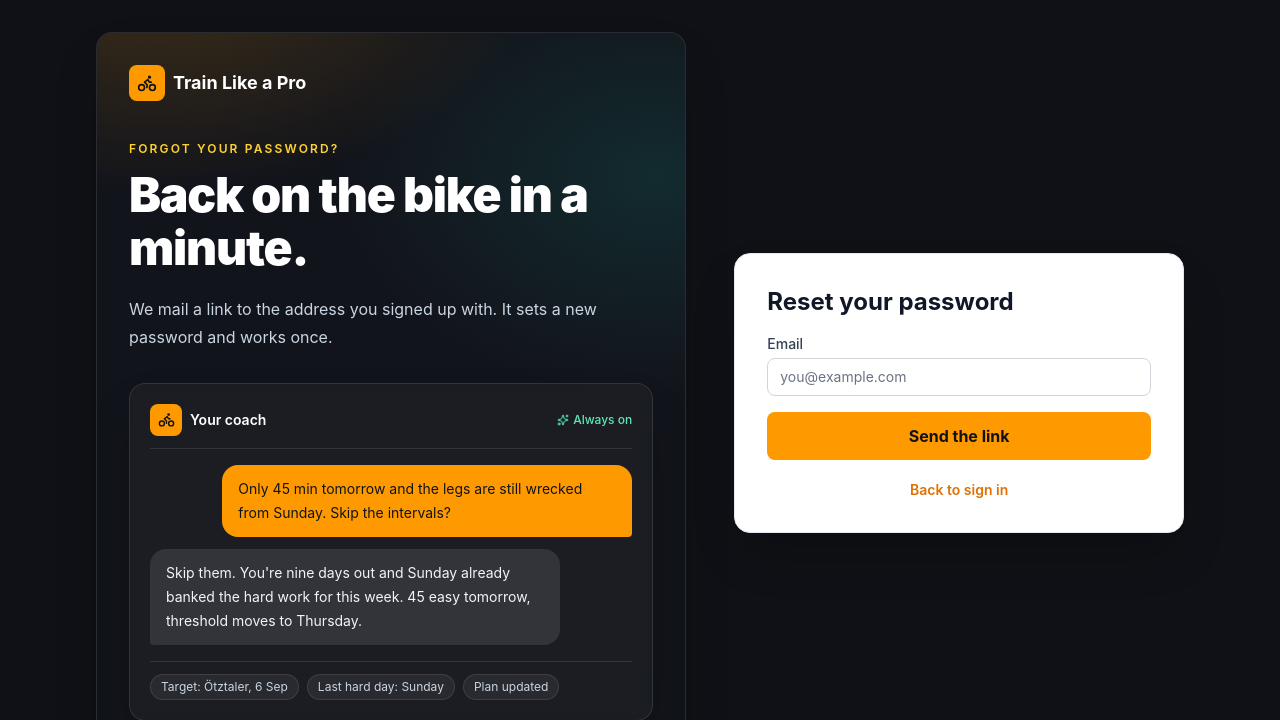
Test: ForgotPasswordPage › says whom to ask when this server sends no mail
Type "rider@example.com" into the field labelled "Email" at (959, 377), box [767,358,1151,396]
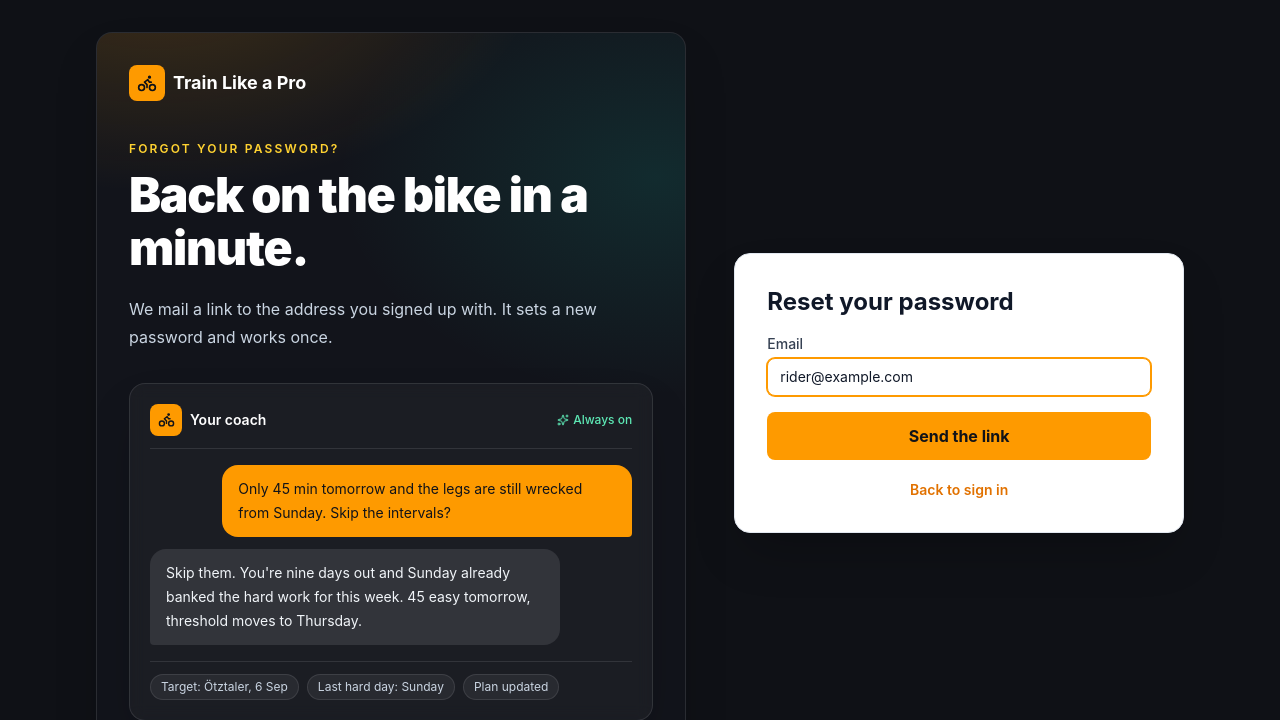
Click the button "Send the link" at (959, 436), box [767,412,1151,460]
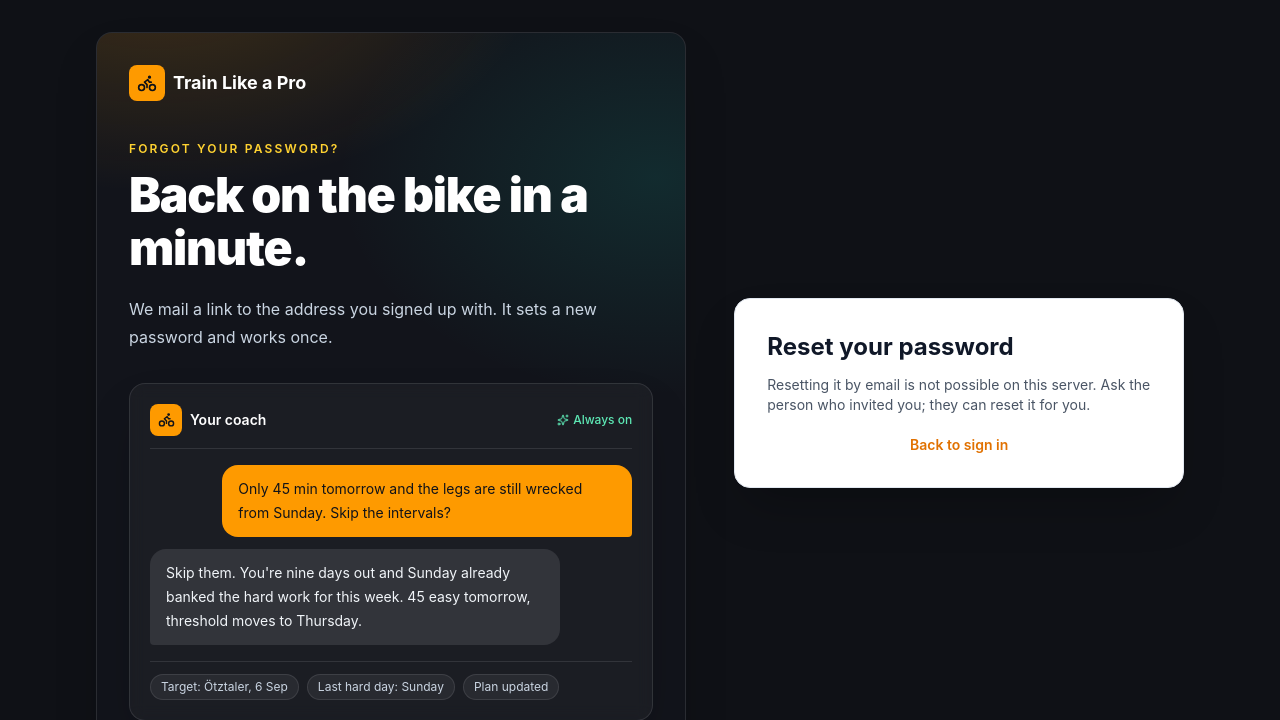
Expected: the text "Ask the person who invited you" is shown, [767,376,1150,413]
Expected: the button "Send the link" is gone
